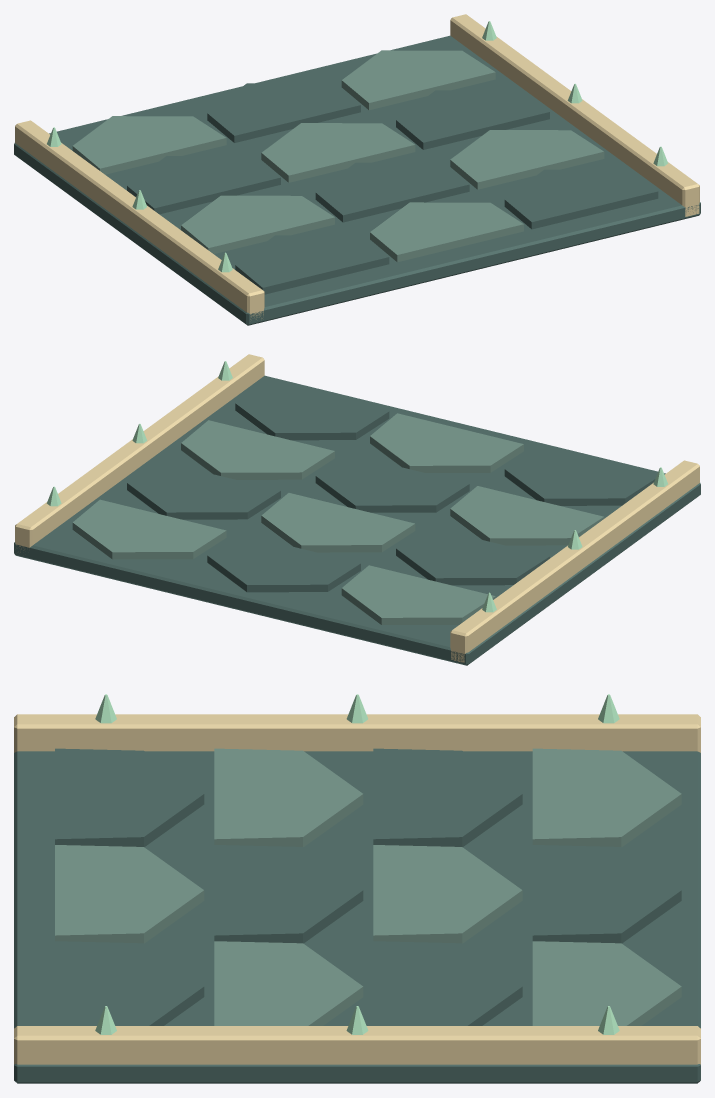
Rendered from Dragon_RoadTile.fbx.
3 views of the same model, one above another, from view 1: azimuth 30°, elevation 25°; view 2: azimuth 150°, elevation 25°; view 3: azimuth 270°, elevation 25° (orthographic). The views are drawn at different scales.
Visible parts, largest first — view 1: Dragon_RoadTile; view 2: Dragon_RoadTile; view 3: Dragon_RoadTile.
Boxes of the visible parts, x1=… form: Dragon_RoadTile: x1=14, y1=14, x2=700, y2=325; Dragon_RoadTile: x1=14, y1=354, x2=700, y2=665; Dragon_RoadTile: x1=14, y1=694, x2=700, y2=1083.
Size of the model in its own units: 460 by 47 by 410.
